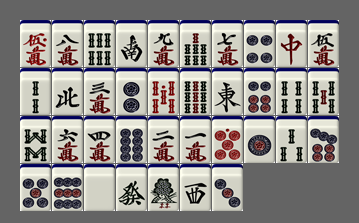0m: (20, 20, 51, 67)
0p: (212, 116, 243, 163)
0s: (148, 68, 179, 115)
1m: (180, 116, 211, 163)
1p: (244, 116, 275, 163)
1s: (148, 164, 179, 211)
1z: (212, 68, 243, 115)
2m: (148, 116, 179, 163)
2p: (116, 68, 147, 115)
2s: (20, 68, 51, 115)
2z: (116, 20, 147, 67)
3m: (84, 68, 115, 115)
3p: (212, 164, 243, 211)
3s: (276, 116, 307, 163)
3z: (180, 164, 211, 211)
4m: (84, 116, 115, 163)
4p: (244, 20, 275, 67)
4s: (276, 68, 307, 115)
4z: (52, 68, 83, 115)
5m: (308, 20, 339, 67)
5p: (20, 164, 51, 211)
5s: (308, 68, 339, 115)
5z: (84, 164, 115, 211)
6m: (52, 116, 83, 163)
6p: (244, 68, 275, 115)
6s: (84, 20, 115, 67)
6z: (116, 164, 147, 211)
7m: (212, 20, 243, 67)
7p: (308, 116, 339, 163)
7s: (180, 20, 211, 67)
7z: (276, 20, 307, 67)
8m: (52, 20, 83, 67)
8p: (116, 116, 147, 163)
8s: (20, 116, 51, 163)
9m: (148, 20, 179, 67)
9p: (52, 164, 83, 211)
9s: (180, 68, 211, 115)
